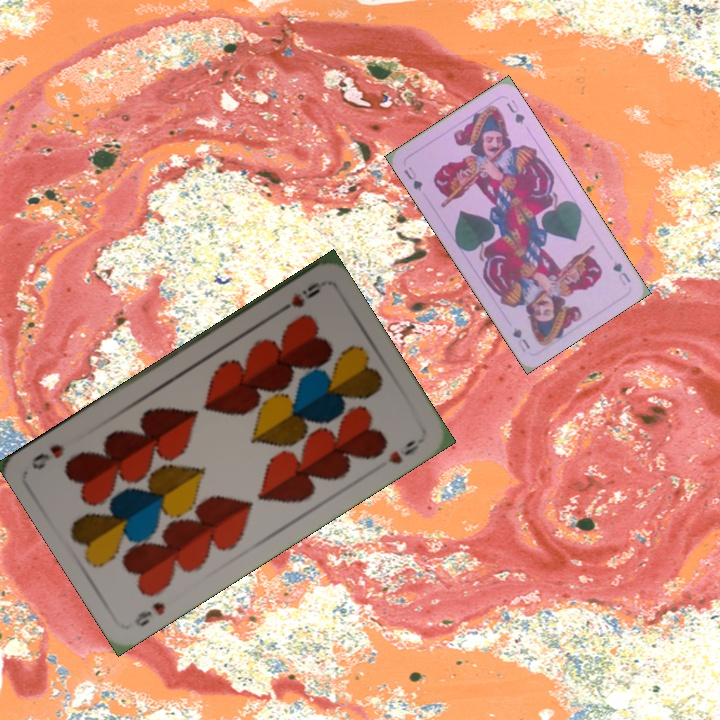GU: (399, 162, 425, 194), (609, 257, 633, 288)
H9: (273, 278, 325, 318), (130, 598, 168, 630)
